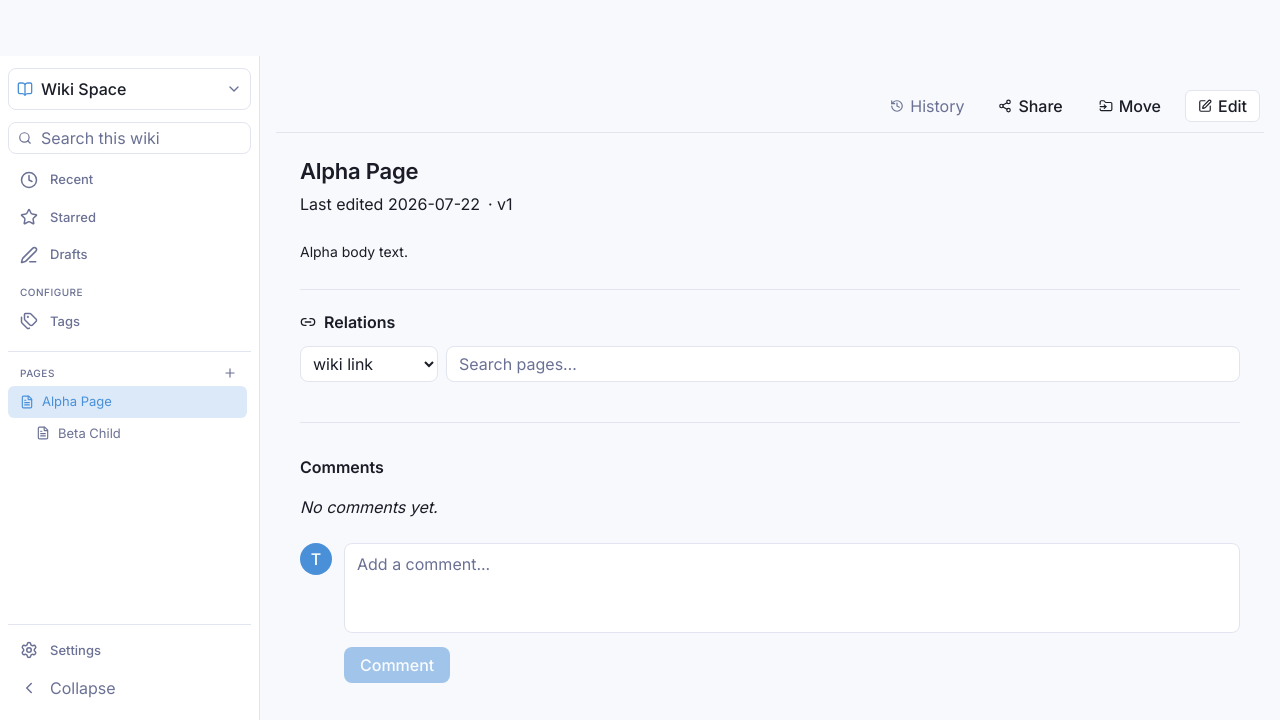
Codex scoped search drives the tree zone › shows the empty state for a query with no matches
In the field with placeholder "Search this wiki": (130,138) [8,122,251,154], type "zzzz"
Wait 300 ms
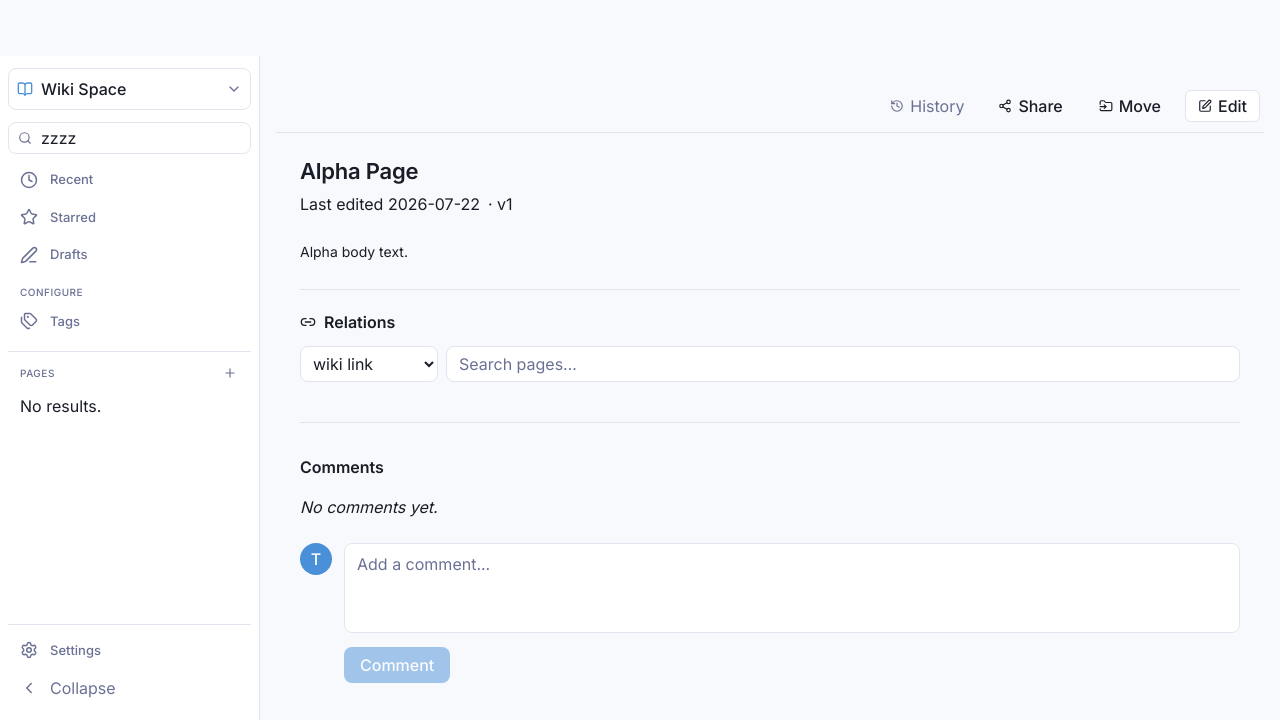
Expected: the text "No results." is shown, [20,396,101,416]
